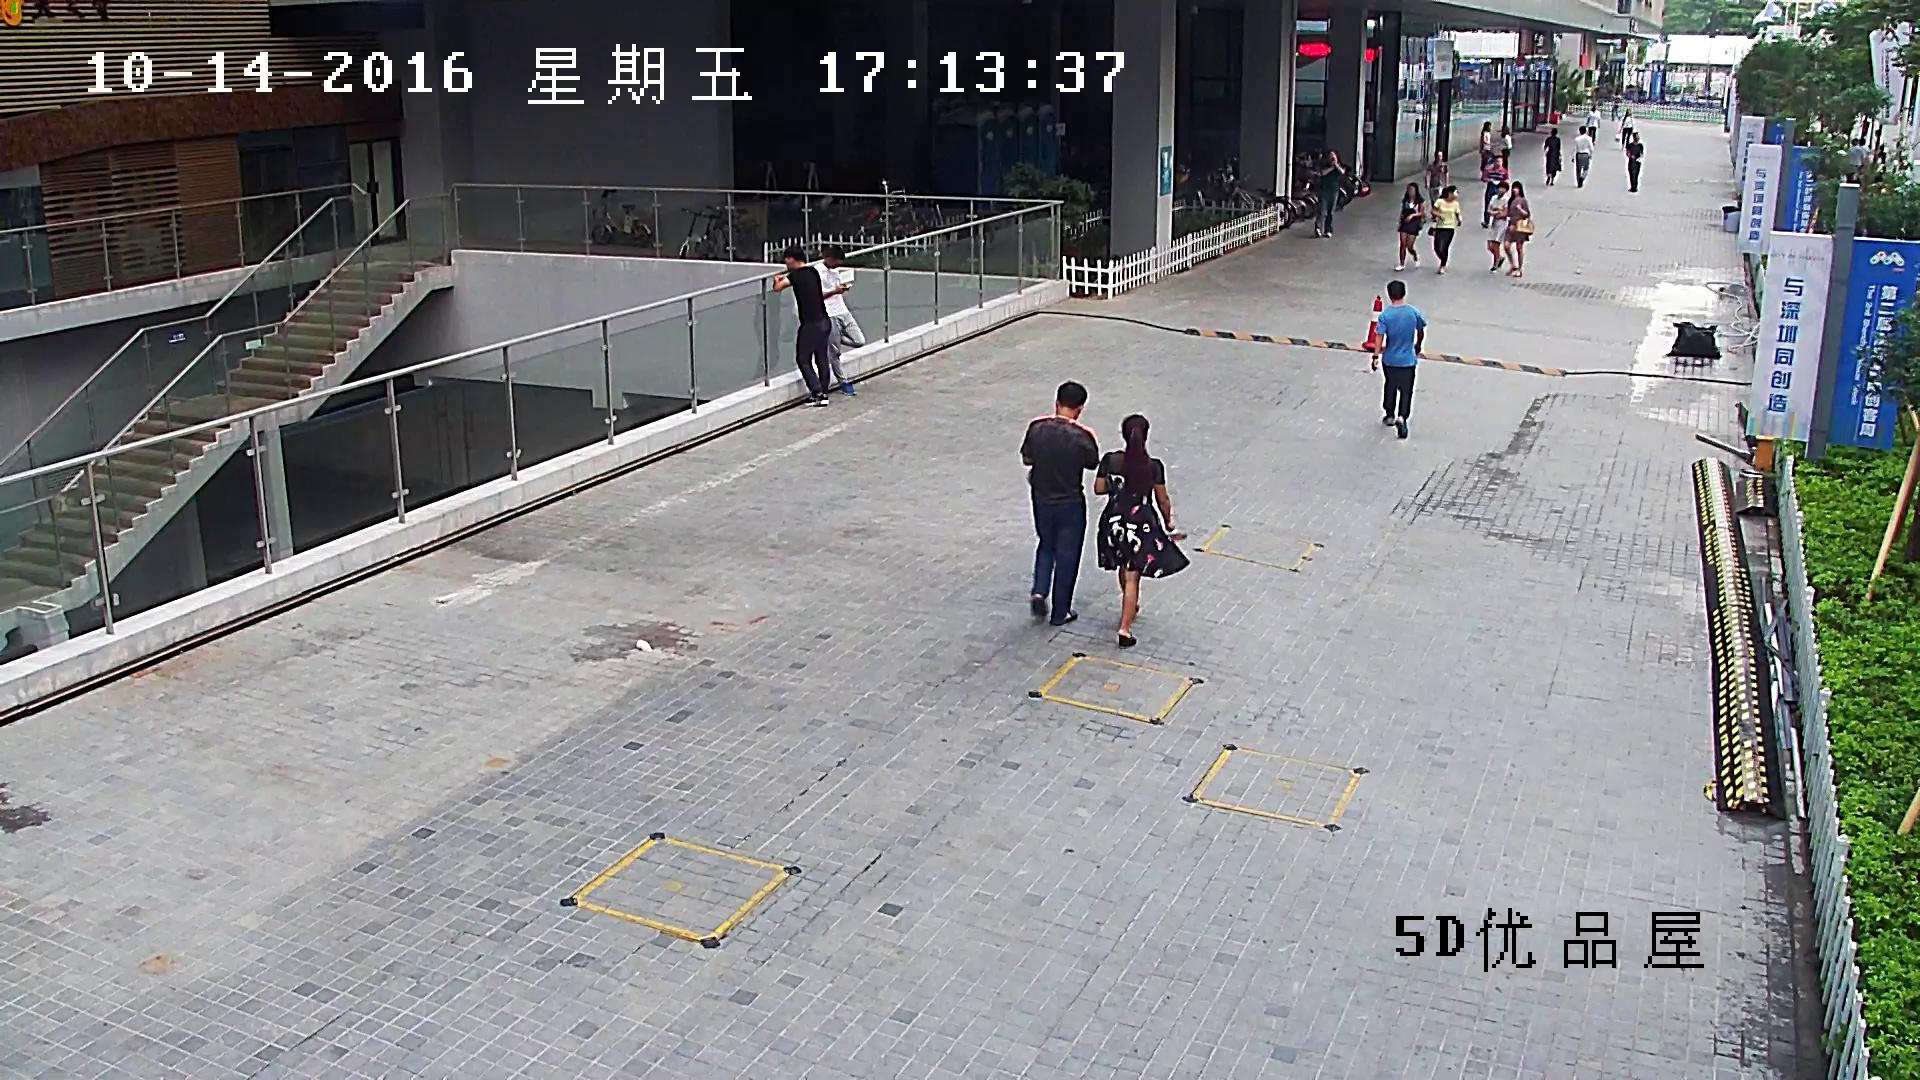person: (1094, 414, 1190, 648), (1018, 381, 1100, 626), (772, 246, 830, 407), (1370, 280, 1427, 438), (813, 246, 865, 397), (1493, 181, 1534, 277), (1428, 185, 1462, 273), (1393, 181, 1426, 270), (1313, 149, 1345, 238), (1485, 181, 1509, 272), (1481, 156, 1508, 227), (1424, 150, 1448, 222), (1572, 125, 1593, 188), (1544, 127, 1561, 185), (1627, 133, 1643, 192), (1479, 121, 1494, 181), (1615, 109, 1633, 151), (1501, 125, 1512, 177), (1586, 106, 1600, 145), (1848, 139, 1863, 167)
